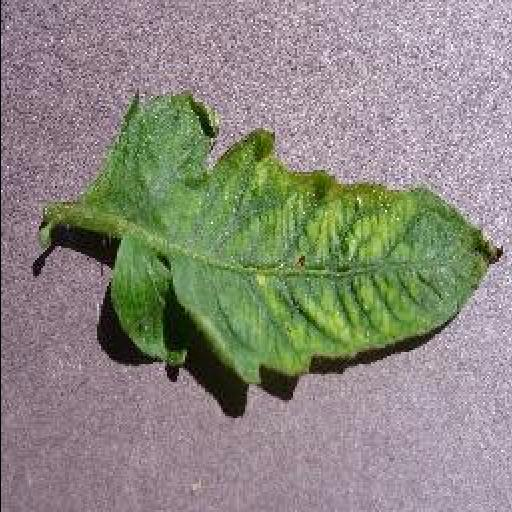disease_tomato: (80, 86, 504, 388)
